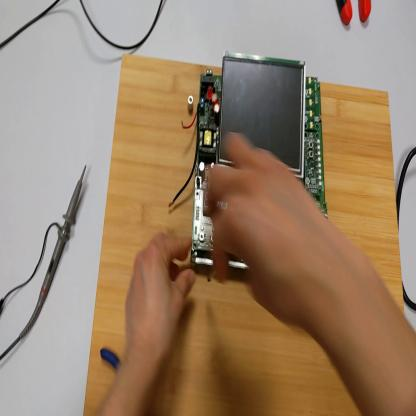hand: (207, 132, 328, 323), (126, 234, 195, 365)
low voltage board: (170, 50, 330, 267)
oscilloscope probe tip: (19, 161, 89, 340)
pliers: (338, 1, 374, 27), (101, 347, 121, 370)
screwdriver-: (201, 250, 226, 274)
working area: (84, 53, 405, 416)
